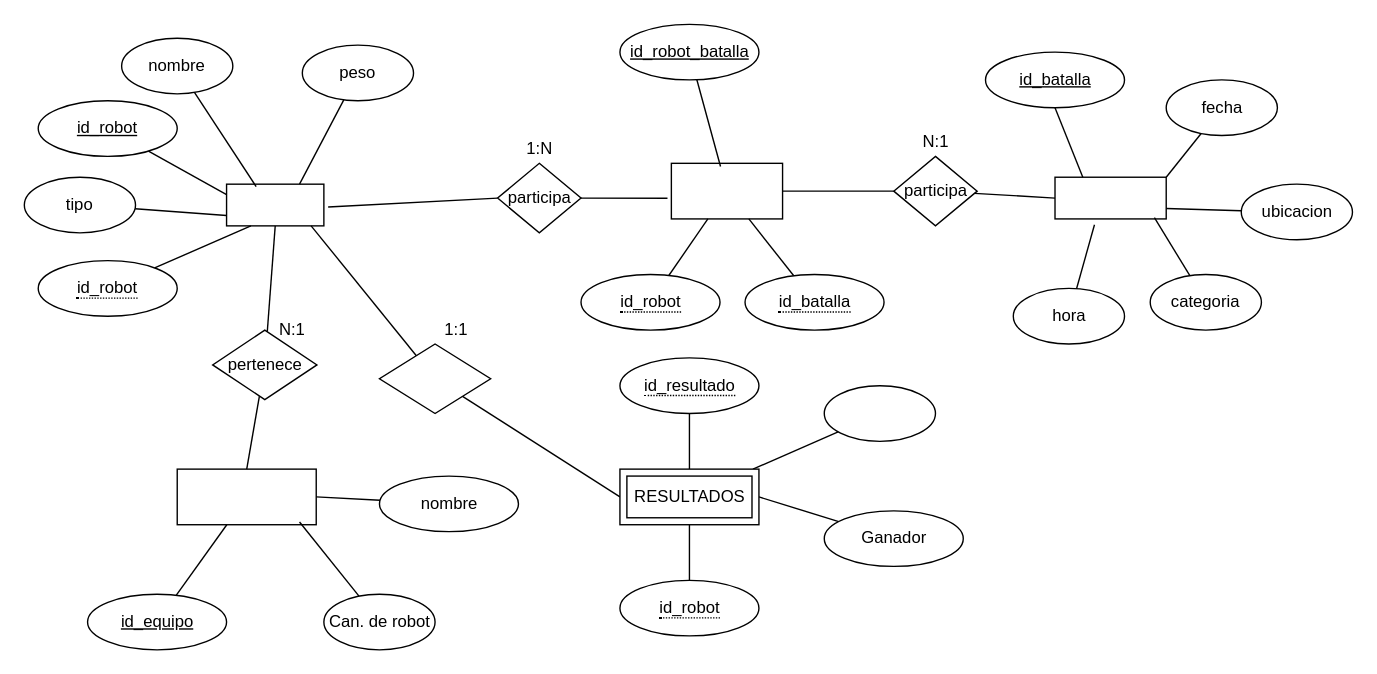
Some shapes in this 1377 by 674 pixel diagram are drawn without their labels. Here are the shapes that lost their labels. From the top down, the centre of each, then its label:
At pixel 274 204: "ROBOT".
At pixel 726 190: "ROBOT - BATALLA".
At pixel 1110 197: "BATALLA".
At pixel 434 378: "tiene".
At pixel 879 412: "Puntaje".
At pixel 246 496: "EQUIPO".
